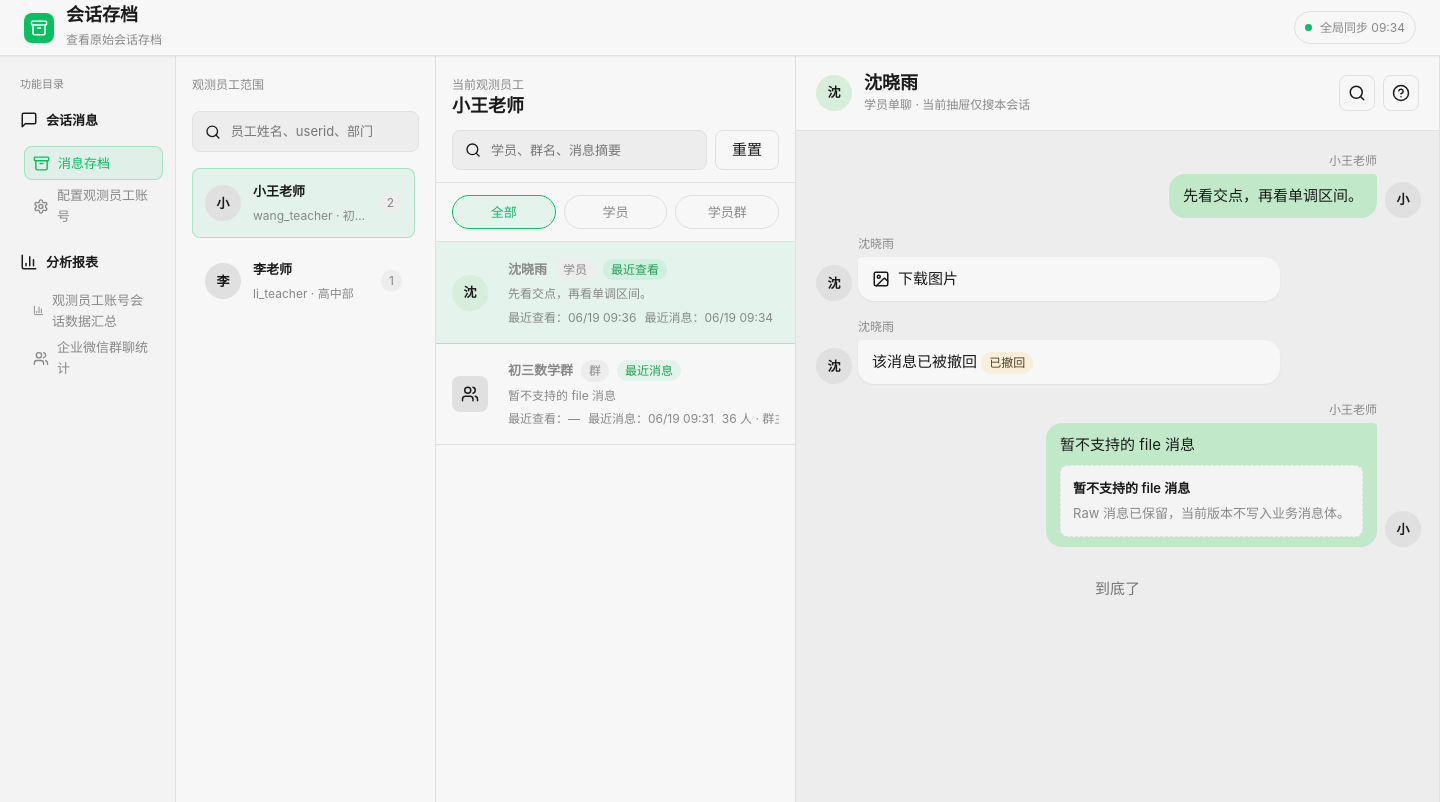
Test case: App › opens observed employee analysis with default filters
Click the button "观测员工账号会话数据汇总" at (94, 311), box [24,289,163,332]
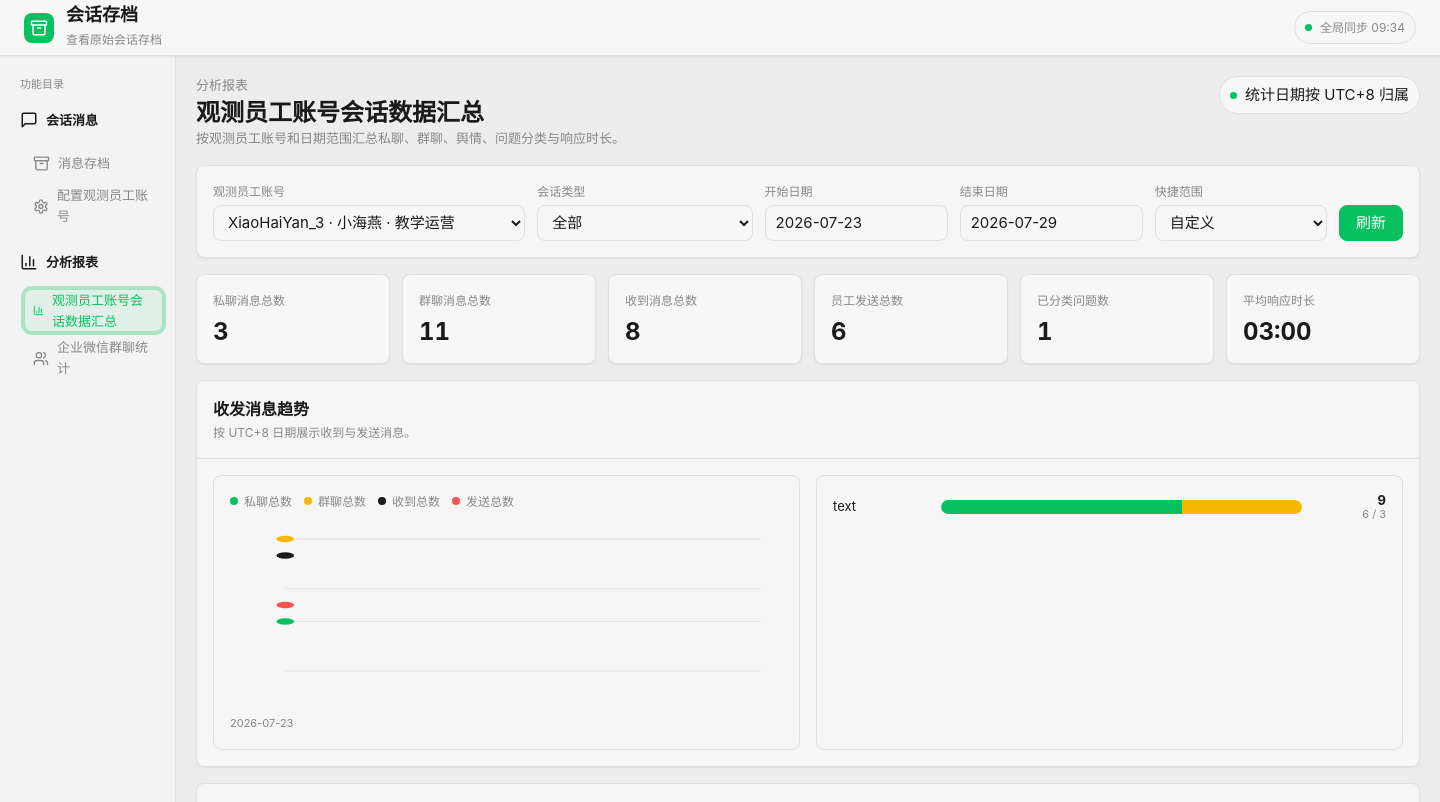
Result: the heading "观测员工账号会话数据汇总" is shown at [196,98,484,127]
Result: the field showing "2026-07-23" is shown at [765,205,948,241]
Result: the field showing "2026-07-29" is shown at [960,205,1143,241]
